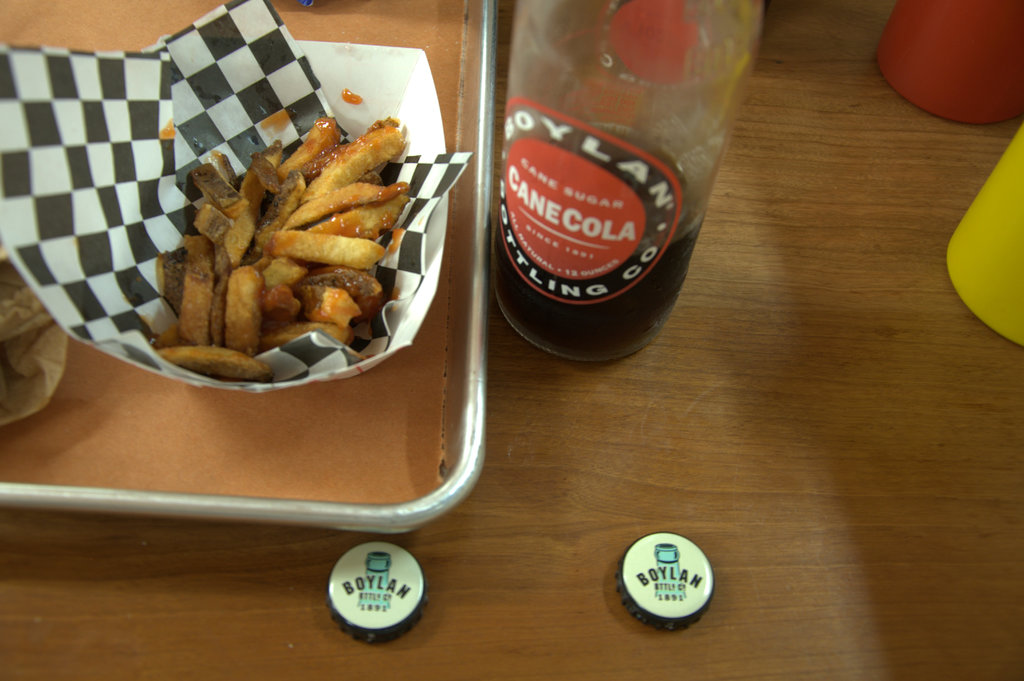French fries: (152, 113, 417, 352)
